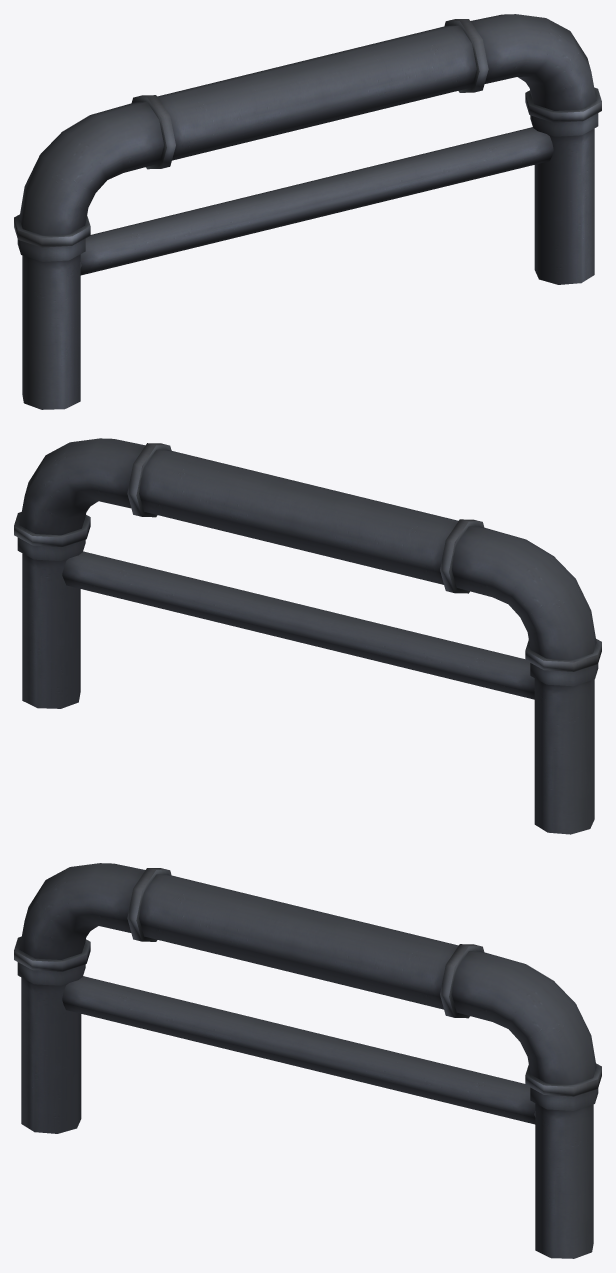
Rendered from xx_shuiguan1.FBX.
3 renders of one model, top to bottom at view 1: azimuth 30°, elevation 25°; view 2: azimuth 150°, elevation 25°; view 3: azimuth 330°, elevation 25°, orthographic.
Visible parts, largest first — view 1: dj_shuiguan_01; view 2: dj_shuiguan_01; view 3: dj_shuiguan_01.
Part boxes in pixels (left/top/right/bottom): dj_shuiguan_01: left=14, top=14, right=601, bottom=409; dj_shuiguan_01: left=14, top=438, right=601, bottom=834; dj_shuiguan_01: left=14, top=863, right=601, bottom=1258.
Size of the model in its own units: 7.3 by 3.33 by 0.8641.
